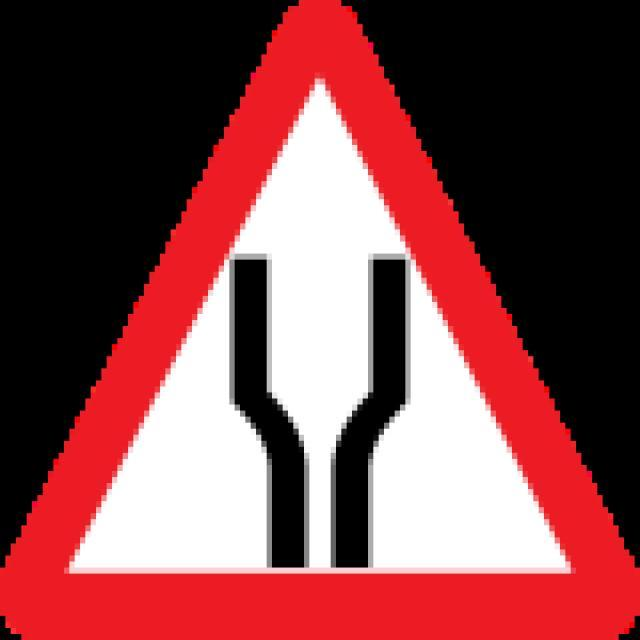road widens ahead: (19, 14, 623, 623)
